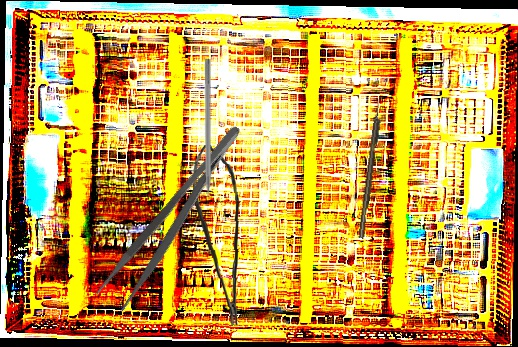Dressing Forceps: (92, 121, 260, 315)
Hook Surgical: (357, 99, 384, 239)
Micro Scissor: (189, 144, 245, 327)
Pusher: (203, 59, 211, 217)
